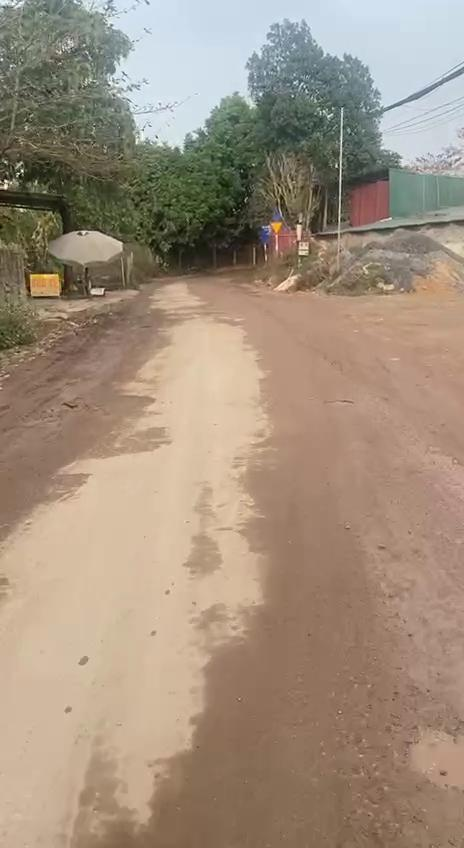pothole: (383, 712, 464, 799)
